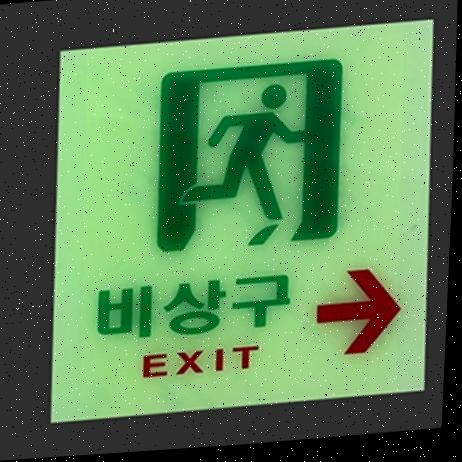emergency_exit: (49, 17, 437, 431)
